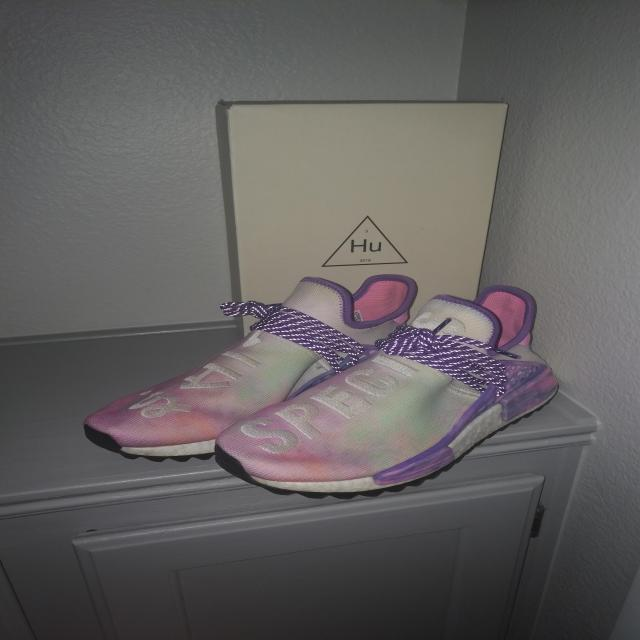shoe: (210, 286, 563, 501), (80, 274, 423, 468)
